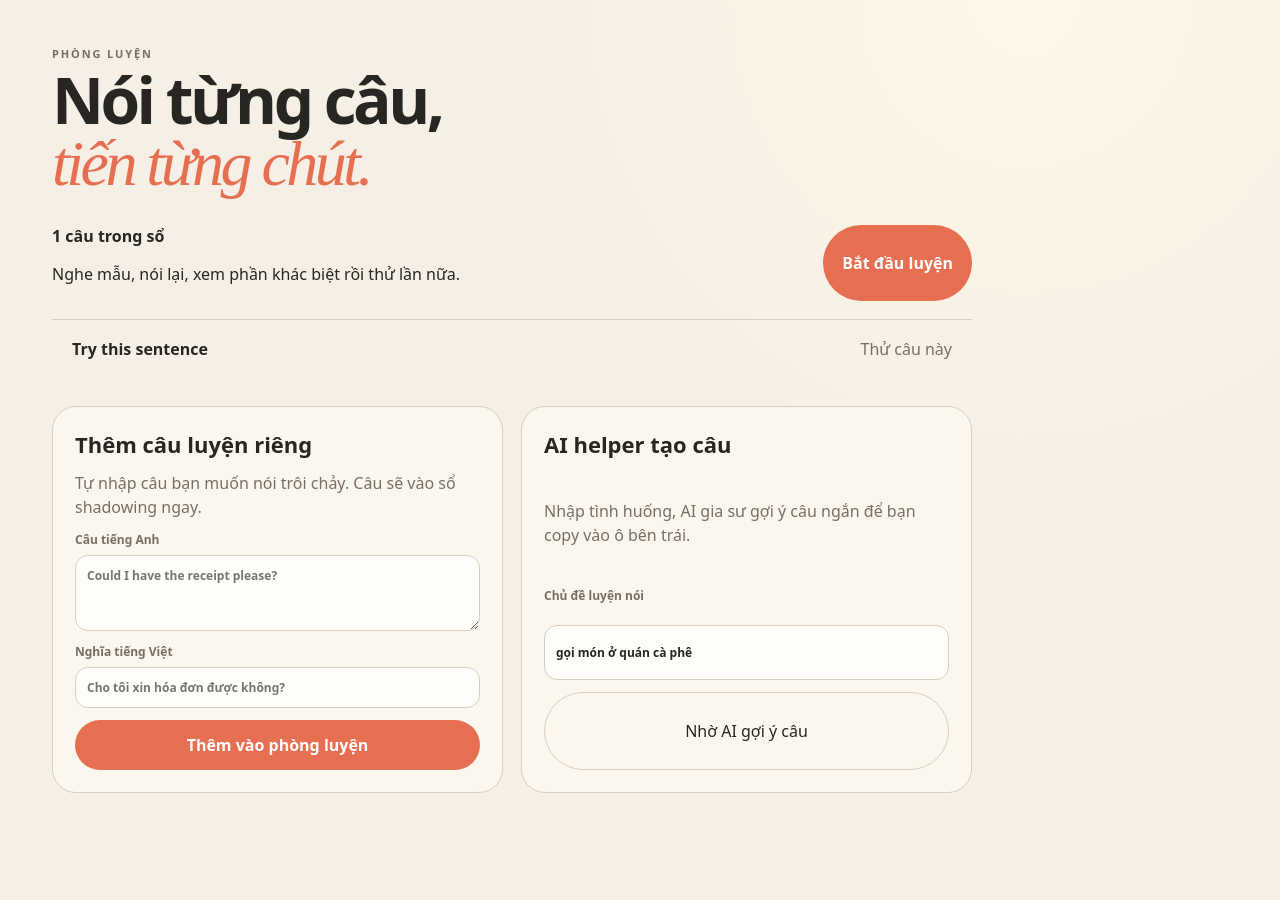
Test case: PracticePage › keeps manual transcript available when speech provider is offline
Click the button "Bắt đầu luyện" at (898, 263), box top-left (823, 225), bottom-right (972, 301)
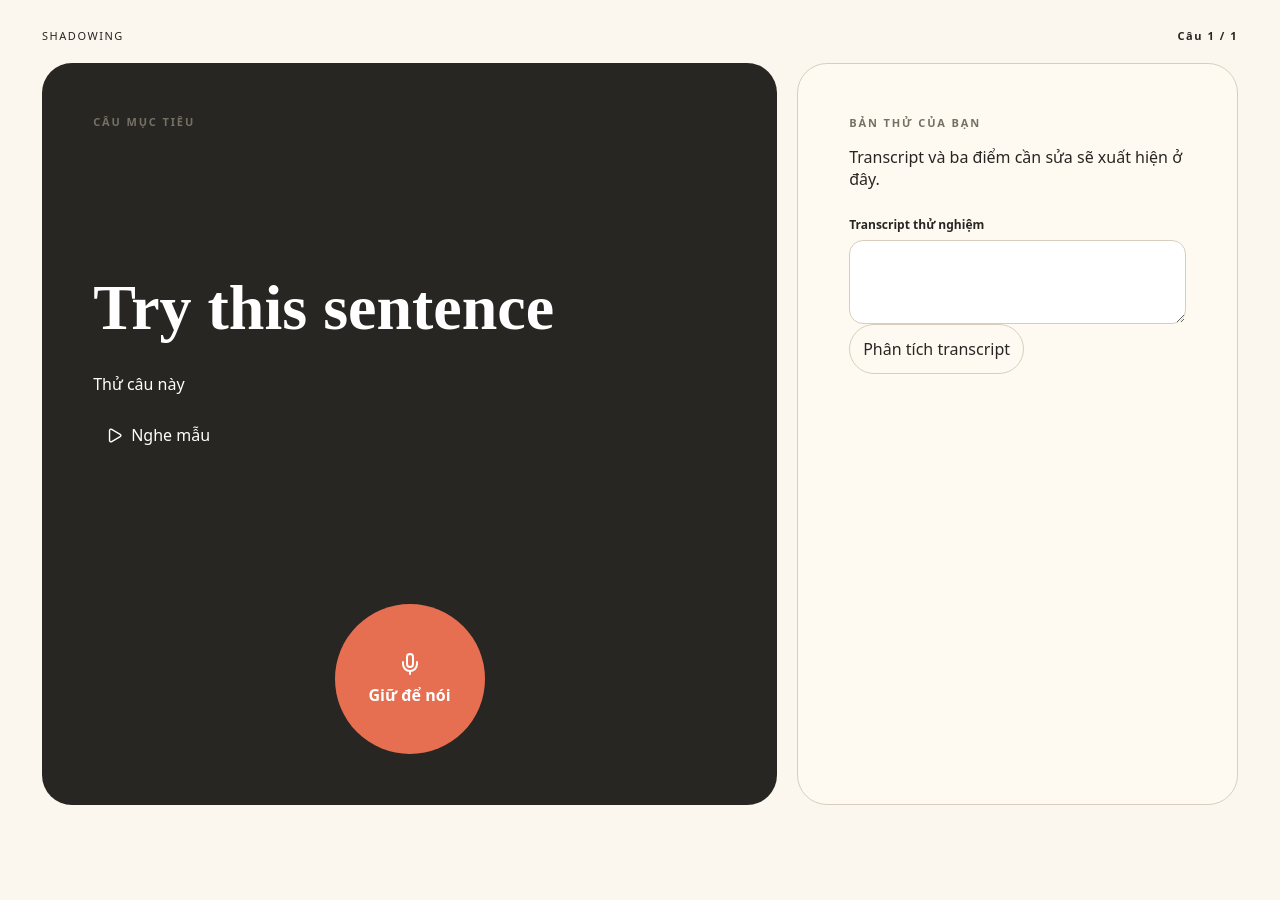
Click the button "Nghe mẫu" at (158, 435), box top-left (93, 411), bottom-right (223, 459)
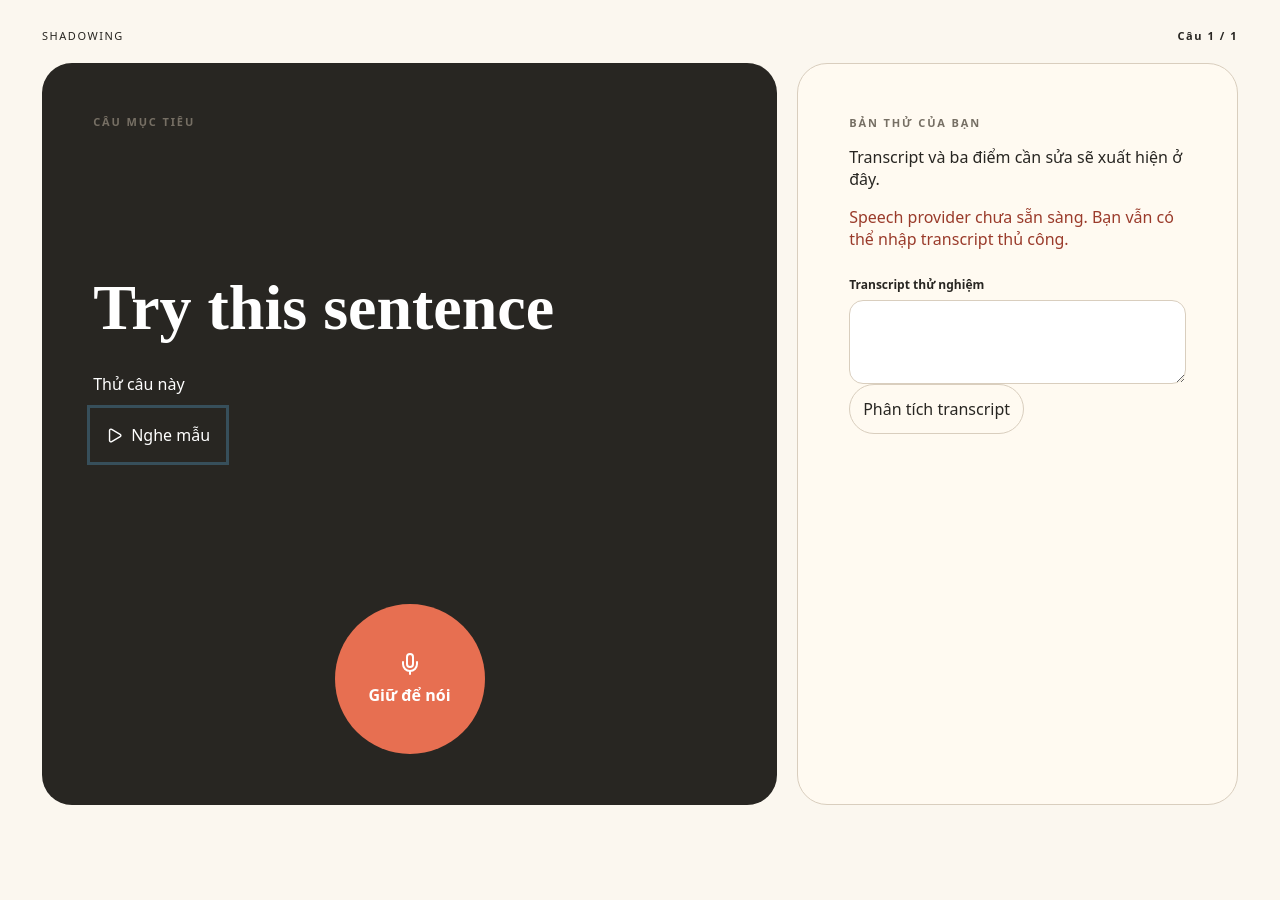
Check: the text box labelled "Transcript thử nghiệm" is enabled, box top-left (849, 300), bottom-right (1186, 384)
Check: the text "Speech provider chưa sẵn sàng. Bạn vẫn có thể nhập transcript thủ công." is shown, box top-left (849, 206), bottom-right (1186, 250)
